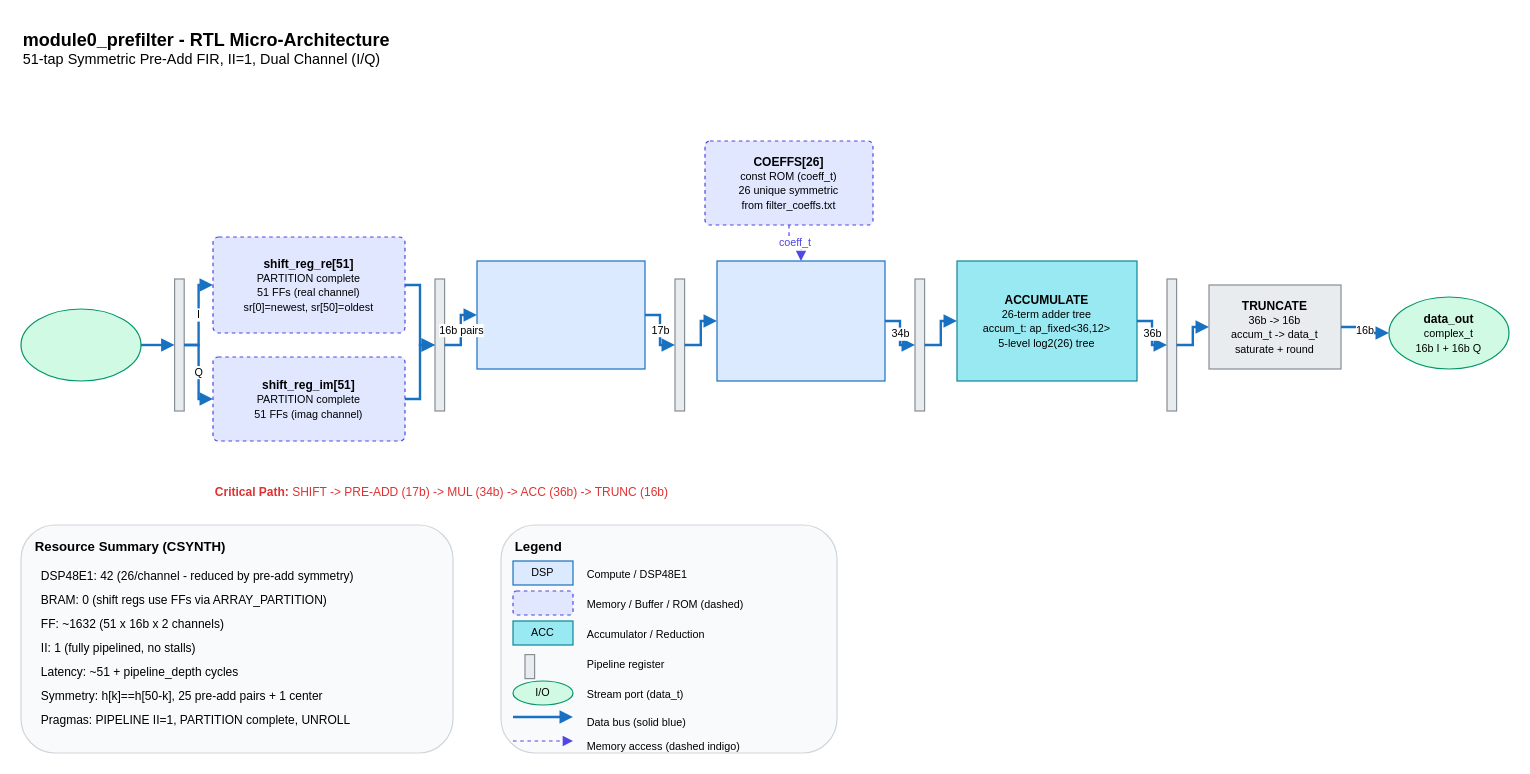
Some shapes in this 1530 by 774 pixel diagram are drawn without their labels. The box of each missing label's shape, as (x1, y1, x2, y2) in pixels:
data_in complex_t 16b I + 16b Q: (20, 308, 141, 381)
DSP48E1 MUL 26 x (17b x 16b) per channel 34b product 42 DSP total: (716, 260, 885, 381)
MEM: (512, 590, 573, 615)
PRE-ADD sr[k] + sr[50-k] k = 0..24 25 pairs + 1 center = 26 unique (17b): (476, 260, 645, 369)
